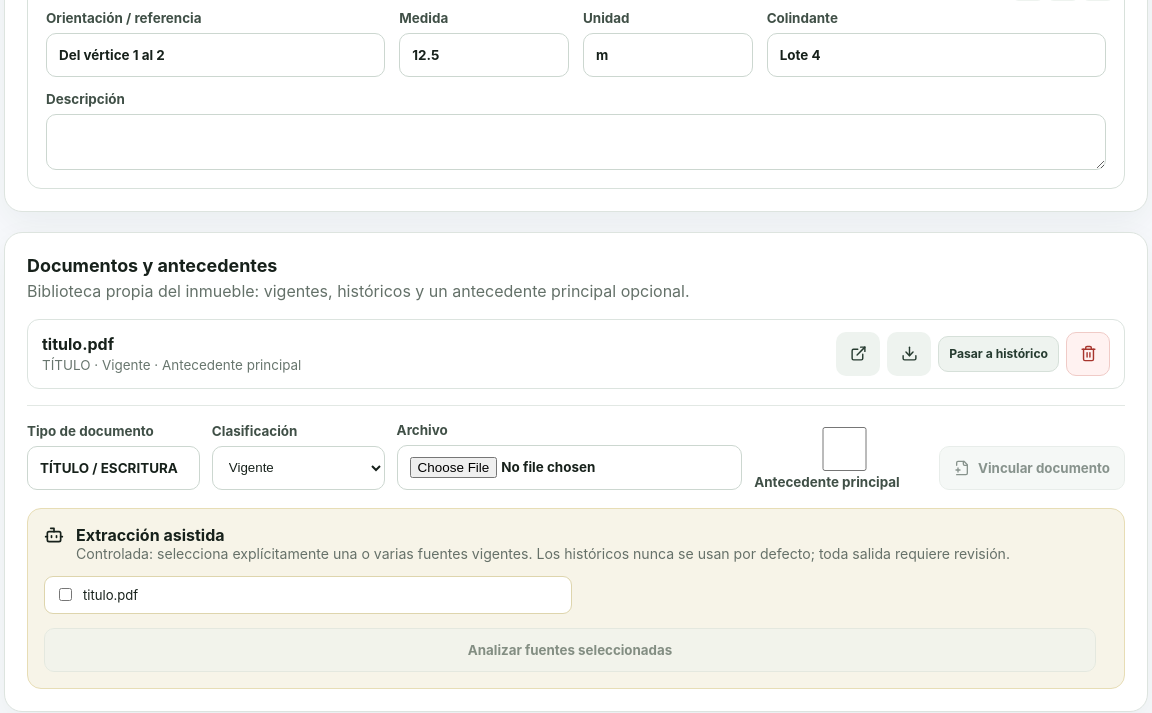
Scenario: PRD-001 ficha maestra inmobiliaria › muestra actividad persistente y elimina sólo el vínculo documental con motivo
The width and height of the screenshot is (1152, 713).
(page scrolled)
Click the button named "Eliminar titulo.pdf de la ficha" at [1088, 354], box [1066,332,1110,376]
(page scrolled)
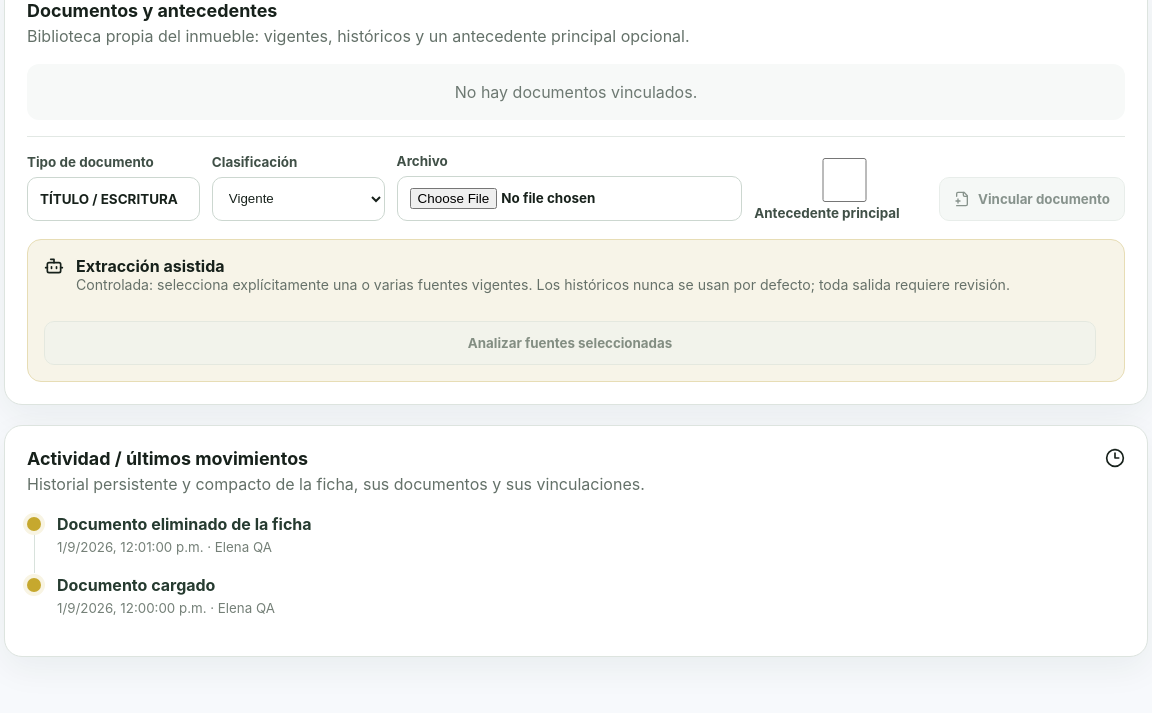
Expected: the text "Documento eliminado de la ficha" is shown, [57,514,312,534]
